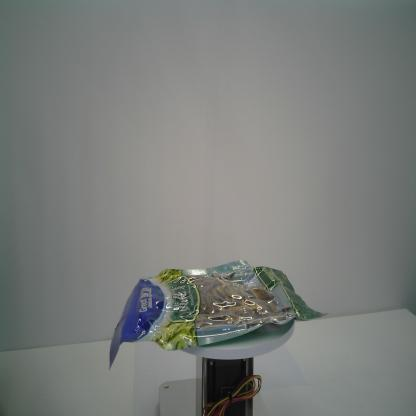Dried Food: (108, 259, 328, 370)
